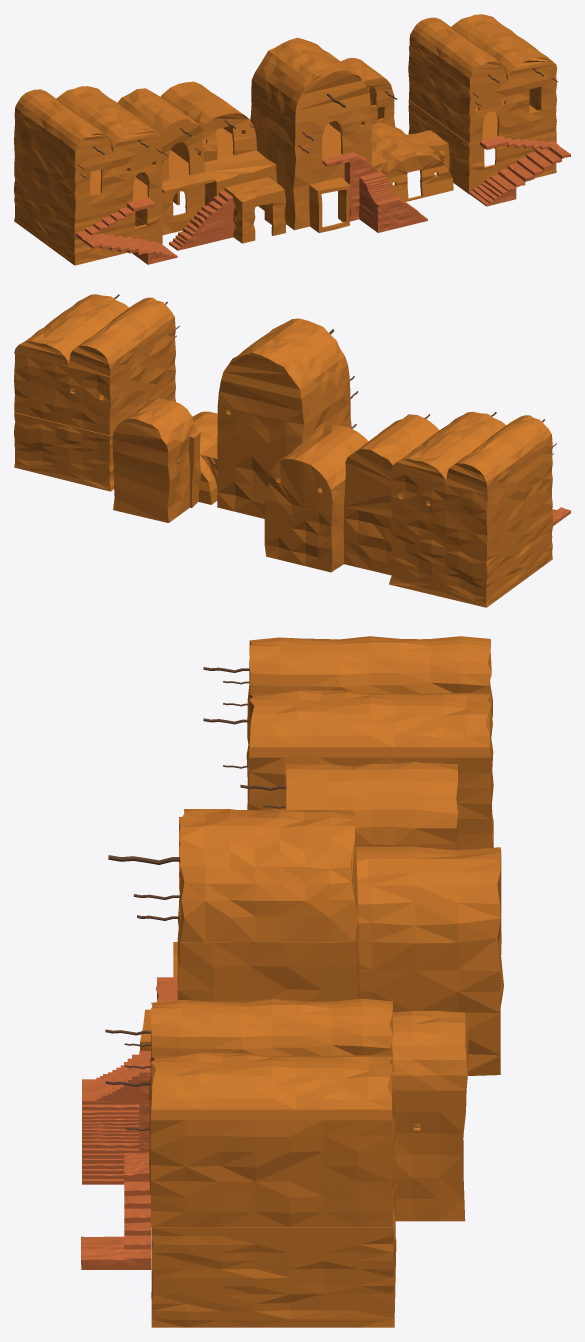
Rendered from Tunisia_Full House.fbx.
3 views of the same model, one above another, from view 1: azimuth 30°, elevation 25°; view 2: azimuth 150°, elevation 25°; view 3: azimuth 270°, elevation 25° (orthographic). The views are drawn at different scales.
Parts seen in each view (by area): view 1: T5_2nd Floor.001, t4_2nd Floor, Roof.002, T4_1st Floor, T2-1st Floor, 2nd floor wall.001, T5_1st Floor.001, Side Camp, Front Stair.001, T5_roof2.001, T4_roof2, 1st Florr wall (+10 smaller); view 2: t4_2nd Floor, T5_2nd Floor.001, Small_house, T4_1st Floor, Roof.002, 2nd floor wall.001, T5_1st Floor.001, T2-2nd Floor, T3-2nd Floor, T2-1st Floor, T5_roof2.001, T4_roof2 (+5 smaller); view 3: T5_2nd Floor.001, T5_1st Floor.001, Roof.002, T2-2nd Floor, T5_roof1.001, T4_roof1, Small_house, T5_roof2.001, T4_roof2, T3-2nd Floor, 2nd floor wall.001, T2-1st Floor (+3 smaller).
Boxes of the visible parts, x1,y1,x2,y2 form: T5_2nd Floor.001: (408, 46, 556, 143); t4_2nd Floor: (14, 118, 162, 215); Roof.002: (251, 37, 370, 123); T4_1st Floor: (14, 169, 162, 265); T2-1st Floor: (173, 128, 285, 243); 2nd floor wall.001: (250, 92, 371, 171); T5_1st Floor.001: (408, 100, 556, 193); Side Camp: (371, 122, 453, 201); Front Stair.001: (321, 152, 427, 232); T5_roof2.001: (409, 17, 506, 90); T4_roof2: (14, 89, 112, 161); 1st Florr wall: (257, 148, 371, 232); t4_2nd Floor: (390, 446, 552, 552); T5_2nd Floor.001: (14, 329, 175, 435); Small_house: (112, 398, 200, 522); T4_1st Floor: (389, 505, 552, 607); Roof.002: (219, 318, 349, 411); 2nd floor wall.001: (217, 377, 351, 459); T5_1st Floor.001: (14, 388, 175, 491); T2-2nd Floor: (265, 424, 368, 514); T3-2nd Floor: (344, 414, 439, 517); T2-1st Floor: (264, 488, 343, 572); T5_roof2.001: (68, 297, 175, 376); T4_roof2: (445, 415, 552, 493); T5_2nd Floor.001: (148, 1039, 395, 1227); T5_1st Floor.001: (151, 1182, 396, 1327); Roof.002: (180, 809, 358, 942); T2-2nd Floor: (356, 846, 501, 970); T5_roof1.001: (150, 1052, 392, 1120); T4_roof1: (248, 689, 490, 757); Small_house: (392, 1011, 469, 1221); T5_roof2.001: (151, 998, 393, 1071); T4_roof2: (249, 636, 492, 708); T3-2nd Floor: (286, 762, 457, 850); 2nd floor wall.001: (177, 880, 359, 1001); T2-1st Floor: (173, 928, 503, 1075).
Size of the model in its own units: 5446 by 1697 by 2169.
Materials: 3 (1 with a texture image).
